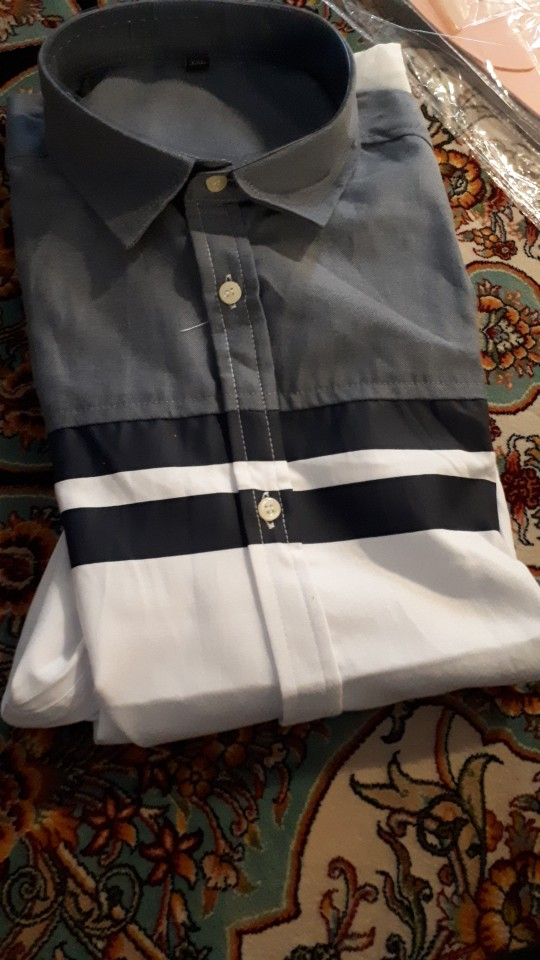shirts: (1, 14, 540, 730)
